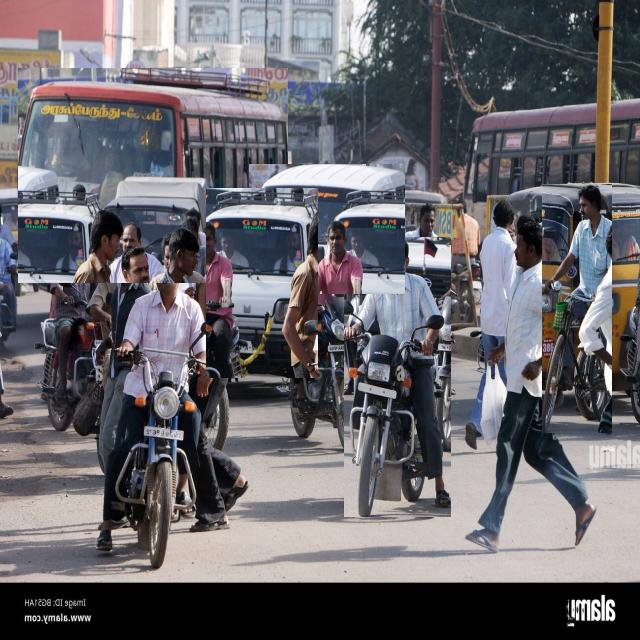bicycle: (542, 185, 611, 433)
bus: (18, 69, 288, 283)
car: (206, 188, 318, 378), (249, 165, 405, 294)
motorcycle: (96, 249, 220, 567), (344, 237, 451, 517), (285, 223, 359, 450)
